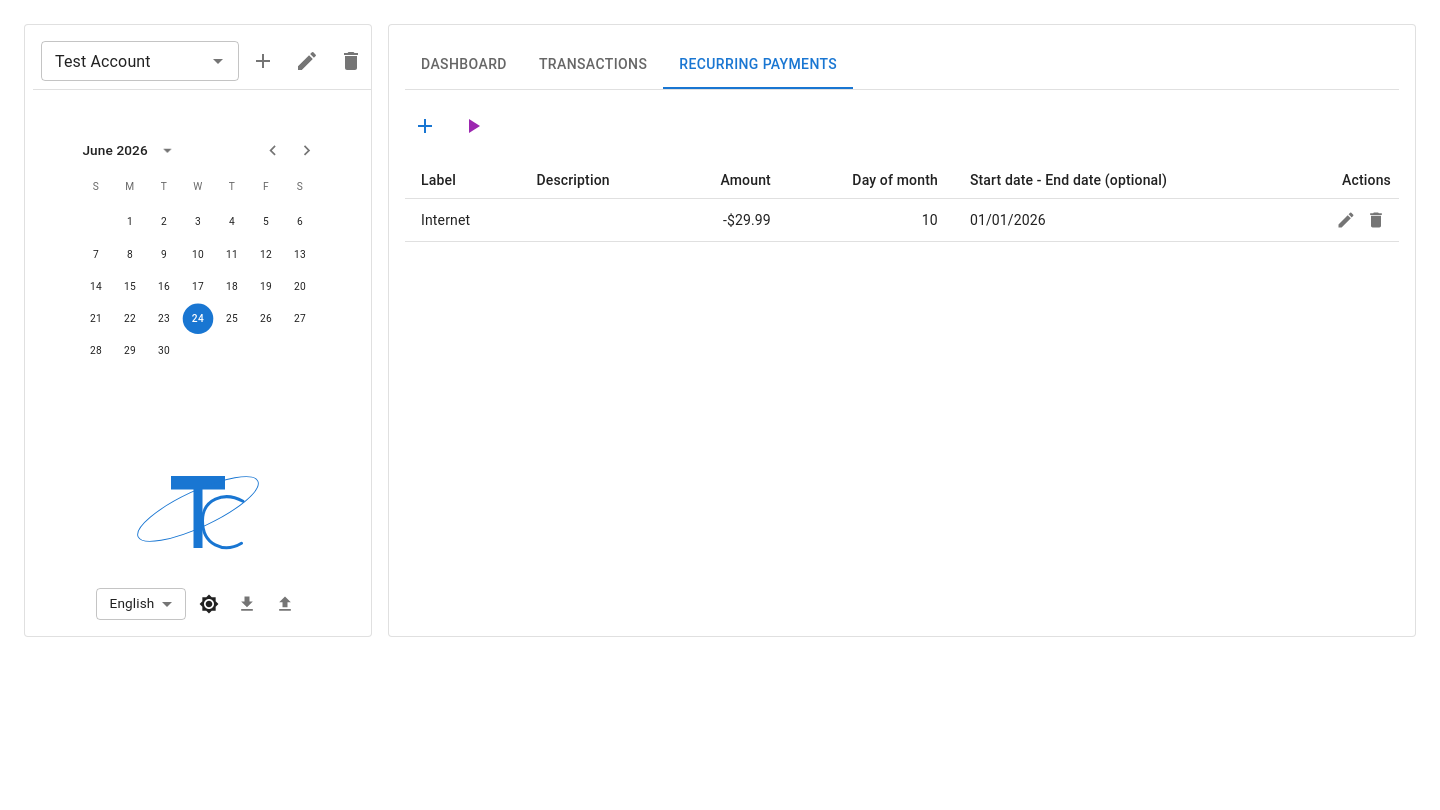
Scenario: TransactionEditionArea › opens recurring export dialog when on recurring payments tab
The width and height of the screenshot is (1440, 810).
Click the button named "export".
click(247, 604)  # box x1=232 y1=589 x2=262 y2=619
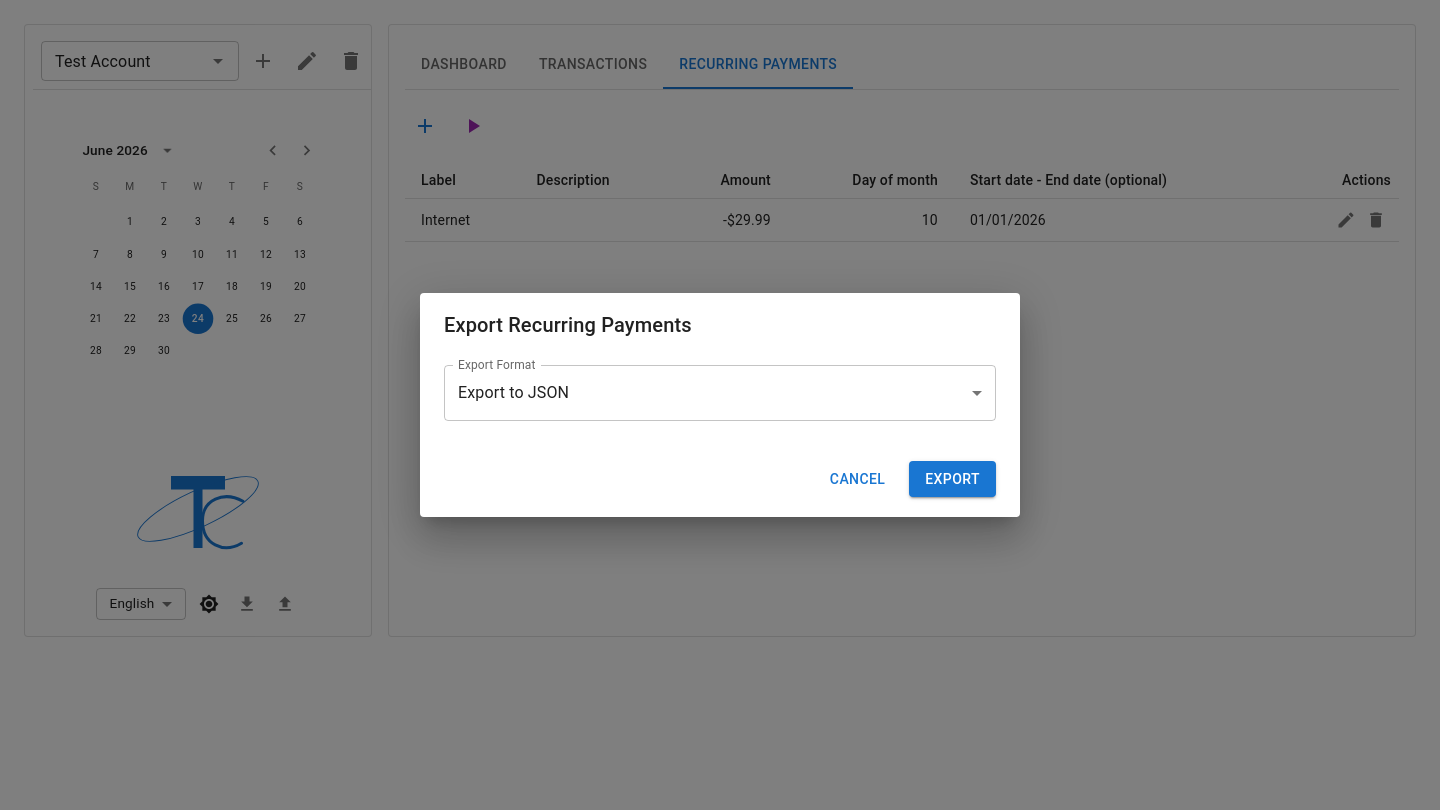
Check: the heading "Export Recurring Payments" is shown, box x1=444 y1=313 x2=692 y2=337
